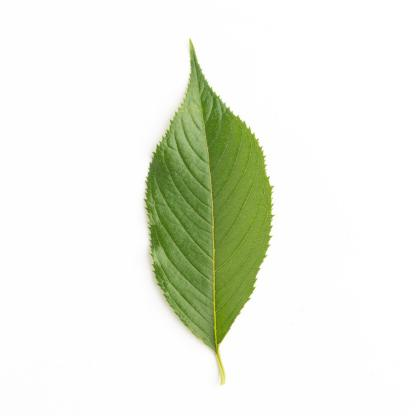Cherry leaf: (135, 31, 284, 396)
